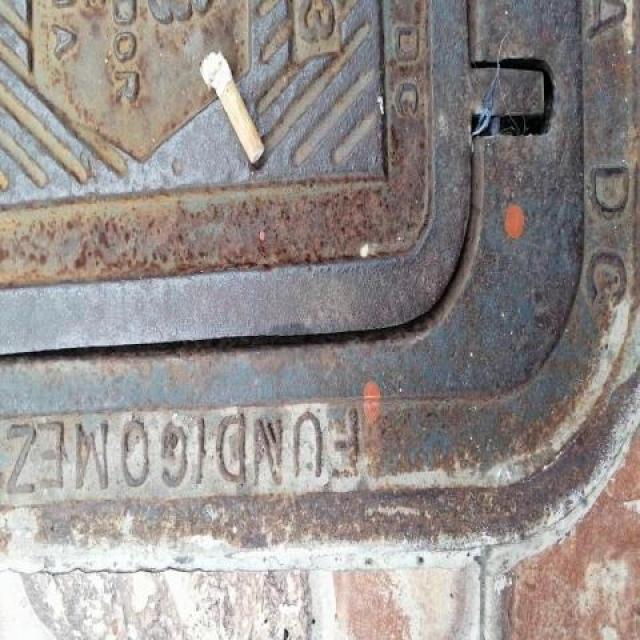non-organic waste: (196, 46, 268, 169)
